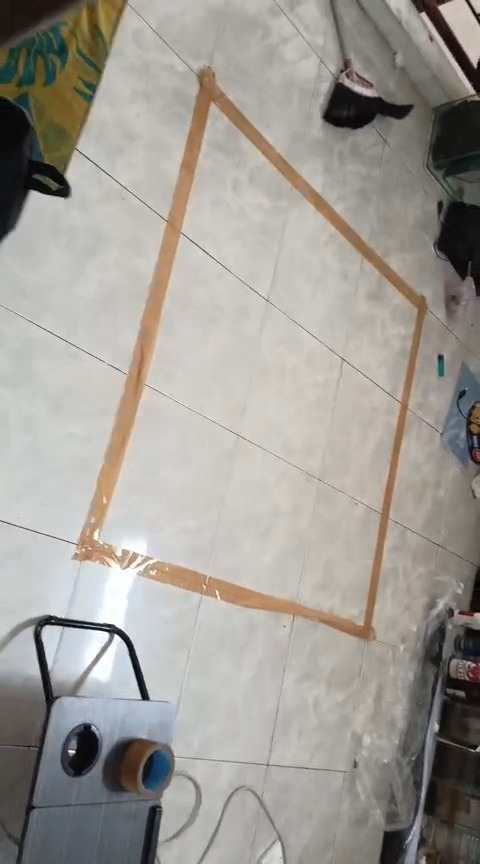floor marking: (75, 67, 426, 639)
